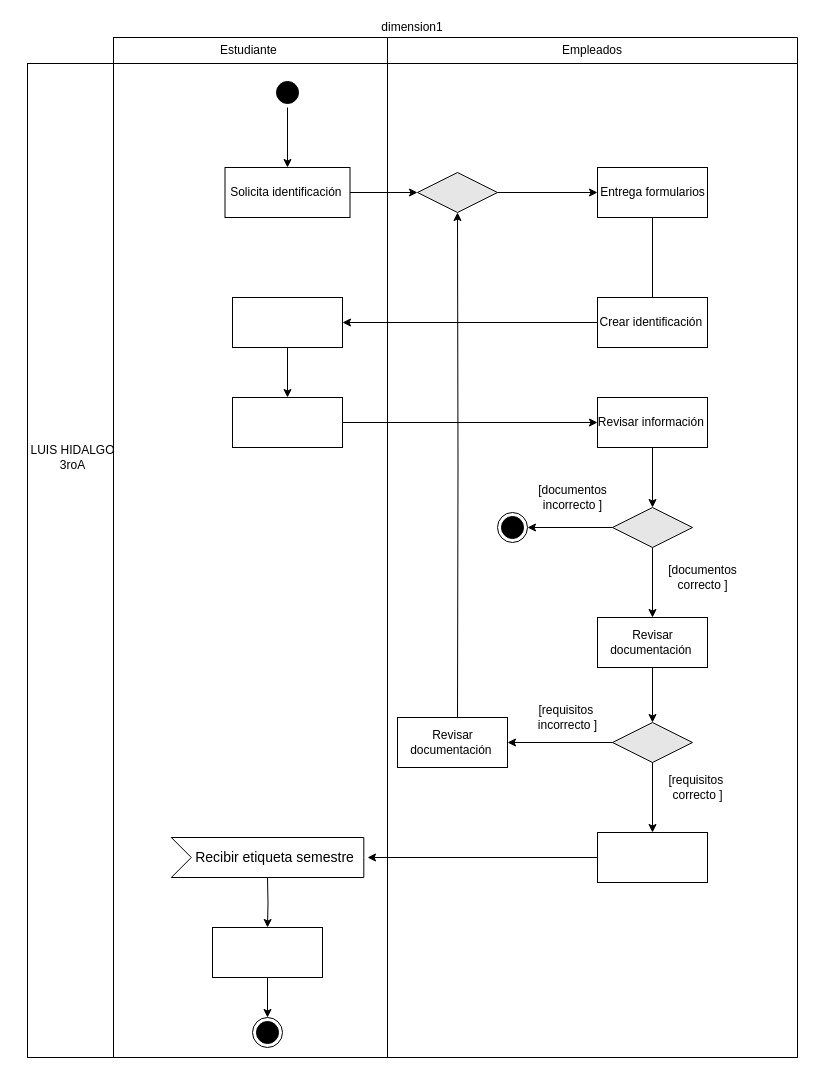
This 815x1075 diagram has some shape labels left out. The shapes that lost their labels are listed below. From the top down, each one's centre as x and y in pixels, then its label:
(287,322): Llenar formulario
(287,422): Llenar datos personales
(652,857): Sellar identificación
(267,952): Pegar etiqueta
